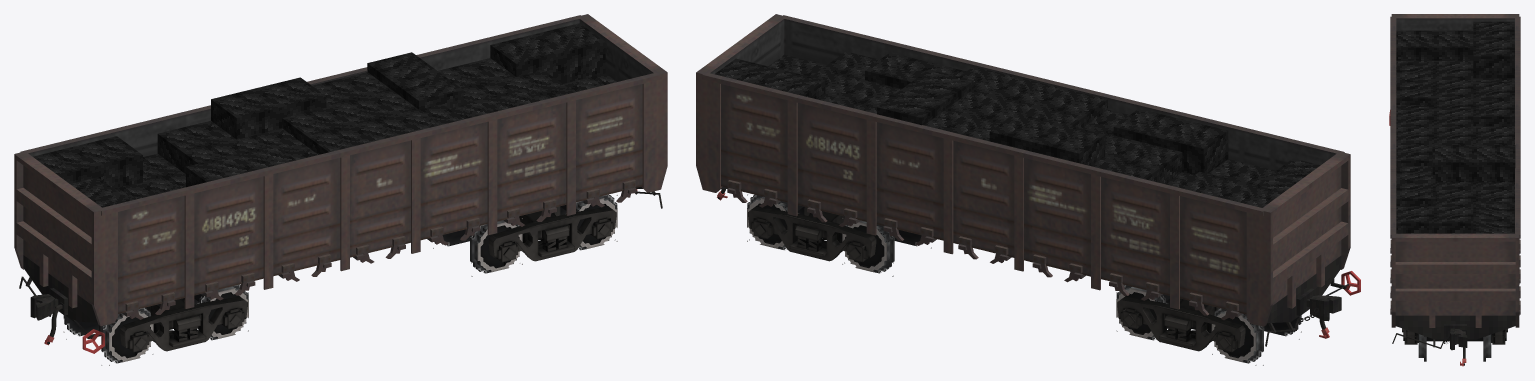
Rendered from mvp_ir_cargopolu.obj.
The picture shows the model from 3 angles, left to right: view 1: azimuth 30°, elevation 25°; view 2: azimuth 150°, elevation 25°; view 3: azimuth 270°, elevation 25°; orthographic projection. The views are drawn at different scales.
Parts seen in each view (by area): view 1: FRAME_cargopolu, CARGO_FILL_100, BOGEY_REAR_cargopolu, BOGEY_FRONT_cargopolu, BOGEY_FRONT_WHEEL_1_cargopolu, BOGEY_REAR_WHEEL_1_cargopolu, BOGEY_REAR_WHEEL_2_cargopolu, BOGEY_FRONT_WHEEL_2_cargopolu; view 2: FRAME_cargopolu, CARGO_FILL_100, BOGEY_REAR_cargopolu, BOGEY_FRONT_cargopolu, BOGEY_FRONT_WHEEL_1_cargopolu, BOGEY_REAR_WHEEL_1_cargopolu, BOGEY_REAR_WHEEL_2_cargopolu, BOGEY_FRONT_WHEEL_2_cargopolu; view 3: CARGO_FILL_100, FRAME_cargopolu, BOGEY_REAR_WHEEL_2_cargopolu, BOGEY_REAR_cargopolu.
Part boxes in pixels (left/top/right/bottom): FRAME_cargopolu: left=14, top=14, right=667, bottom=353; CARGO_FILL_100: left=33, top=23, right=616, bottom=207; BOGEY_REAR_cargopolu: left=488, top=206, right=616, bottom=262; BOGEY_FRONT_cargopolu: left=120, top=296, right=247, bottom=352; BOGEY_FRONT_WHEEL_1_cargopolu: left=63, top=307, right=153, bottom=365; BOGEY_REAR_WHEEL_1_cargopolu: left=433, top=218, right=522, bottom=276; BOGEY_REAR_WHEEL_2_cargopolu: left=560, top=194, right=617, bottom=250; BOGEY_FRONT_WHEEL_2_cargopolu: left=194, top=284, right=248, bottom=340; FRAME_cargopolu: left=696, top=14, right=1360, bottom=346; CARGO_FILL_100: left=715, top=51, right=1320, bottom=207; BOGEY_REAR_cargopolu: left=748, top=206, right=876, bottom=262; BOGEY_FRONT_cargopolu: left=1117, top=296, right=1245, bottom=352; BOGEY_FRONT_WHEEL_1_cargopolu: left=1211, top=308, right=1301, bottom=365; BOGEY_REAR_WHEEL_1_cargopolu: left=842, top=218, right=931, bottom=276; BOGEY_REAR_WHEEL_2_cargopolu: left=747, top=194, right=804, bottom=250; BOGEY_FRONT_WHEEL_2_cargopolu: left=1116, top=285, right=1169, bottom=342; CARGO_FILL_100: left=1396, top=21, right=1515, bottom=233; FRAME_cargopolu: left=1389, top=14, right=1520, bottom=366; BOGEY_REAR_WHEEL_2_cargopolu: left=1417, top=334, right=1492, bottom=361; BOGEY_REAR_cargopolu: left=1402, top=328, right=1507, bottom=344.
Size of the model in its own units: 13.87 by 3.97 by 3.18.
